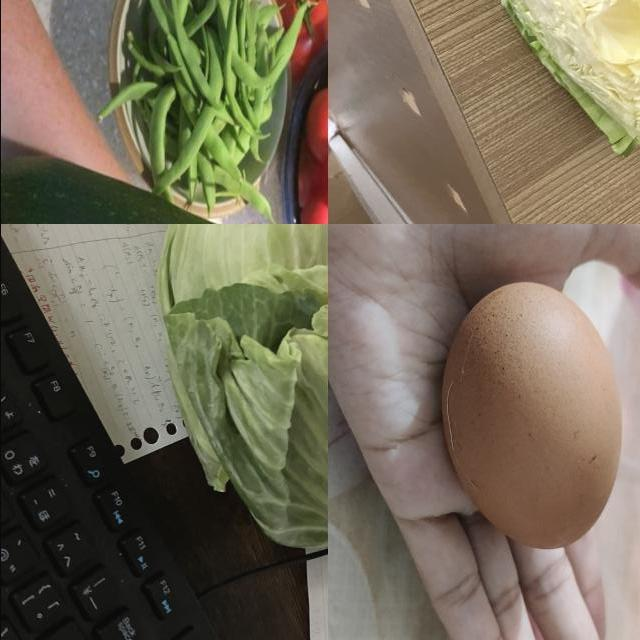cabbage: (154, 225, 328, 556), (449, 1, 640, 155)
egg: (439, 274, 624, 560)
tomato: (309, 82, 328, 163)
